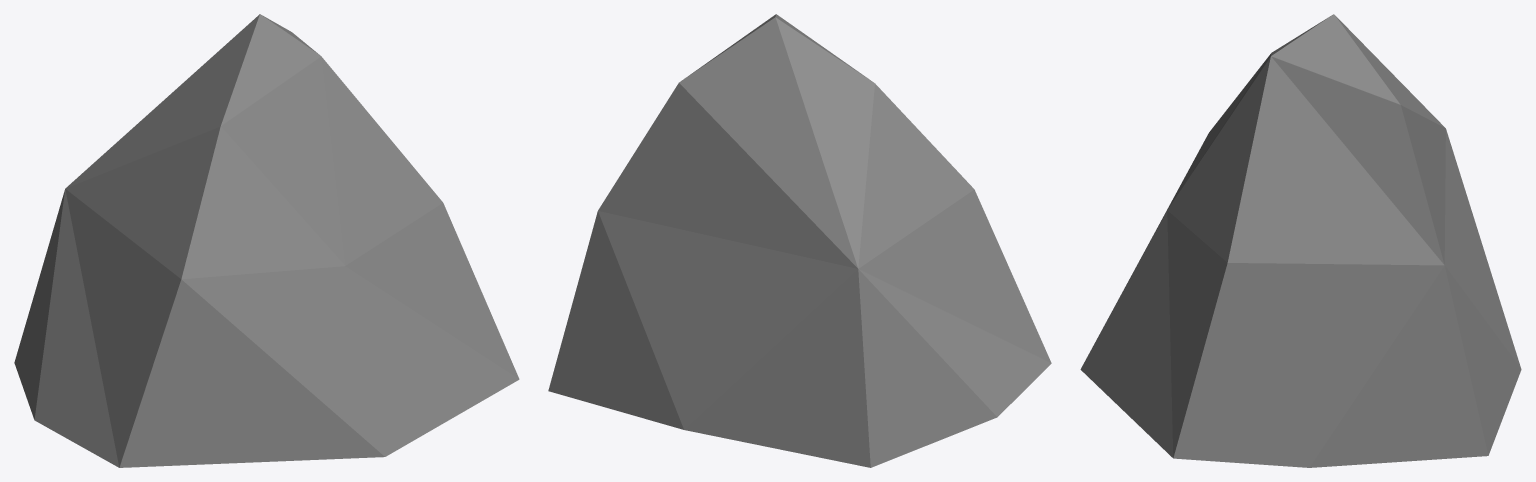
File: rock_02_c.fbx
The picture shows the model from 3 angles, left to right: view 1: azimuth 30°, elevation 25°; view 2: azimuth 150°, elevation 25°; view 3: azimuth 270°, elevation 25°; orthographic projection. The views are drawn at different scales.
Parts seen in each view (by area): view 1: Rock_02_c; view 2: Rock_02_c; view 3: Rock_02_c.
Boxes of the visible parts, x1=… form: Rock_02_c: x1=14, y1=14, x2=519, y2=467; Rock_02_c: x1=548, y1=14, x2=1051, y2=467; Rock_02_c: x1=1080, y1=14, x2=1521, y2=467.
Size of the model in its own units: 4.27 by 3.97 by 3.63.
